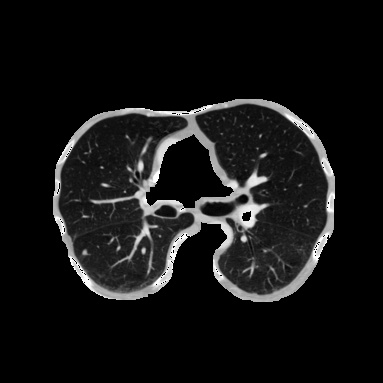PN: (82, 250, 86, 254)
